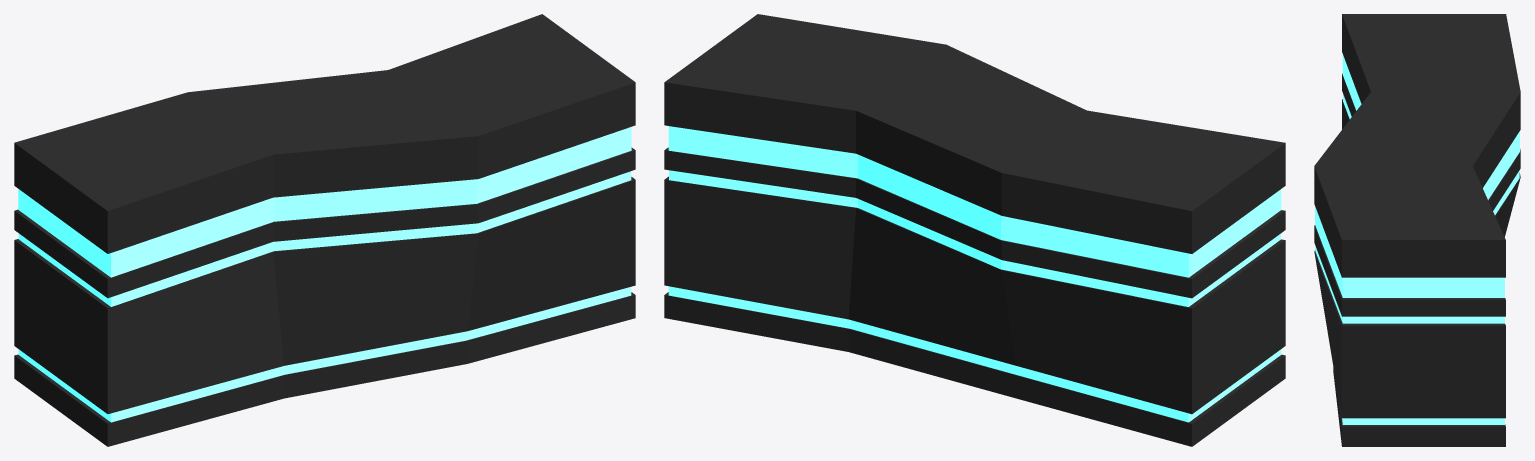
The model's file is Low Wall Distorted.fbx.
The picture shows the model from 3 angles, left to right: view 1: azimuth 30°, elevation 25°; view 2: azimuth 150°, elevation 25°; view 3: azimuth 270°, elevation 25°; orthographic projection. The views are drawn at different scales.
Visible parts, largest first — view 1: Low Wall Distorted; view 2: Low Wall Distorted; view 3: Low Wall Distorted.
Boxes of the visible parts, x1,y1,x2,y2 form: Low Wall Distorted: (14, 14, 635, 446); Low Wall Distorted: (664, 14, 1285, 446); Low Wall Distorted: (1314, 14, 1520, 446).
Size of the model in its own units: 630 by 243 by 269.
